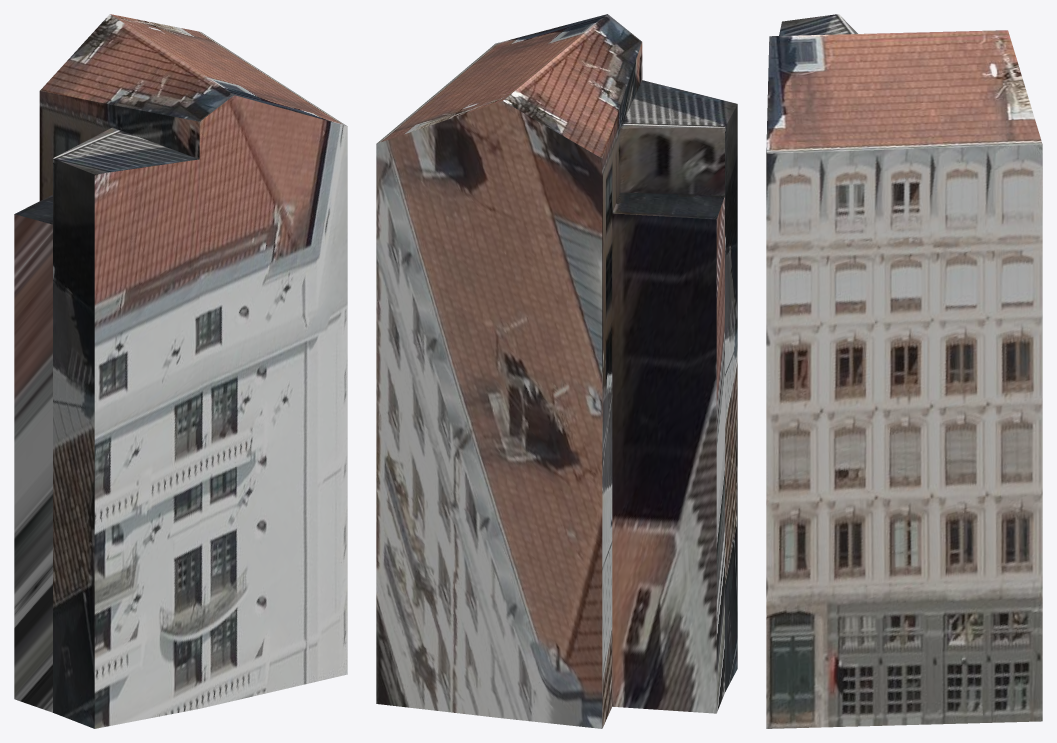
3 views of the same model, side by side, from view 1: azimuth 30°, elevation 25°; view 2: azimuth 150°, elevation 25°; view 3: azimuth 270°, elevation 25° (orthographic). The views are drawn at different scales.
Parts seen in each view (by area): view 1: Z_UP; view 2: Z_UP; view 3: Z_UP.
Part boxes in pixels (x1,y1,x2,y2): Z_UP: [14, 14, 347, 728]; Z_UP: [376, 14, 737, 728]; Z_UP: [766, 14, 1042, 728].
Bounding box in the file's own units: 12.72 × 26.76 × 10.53.
2 materials, 1 textured.
